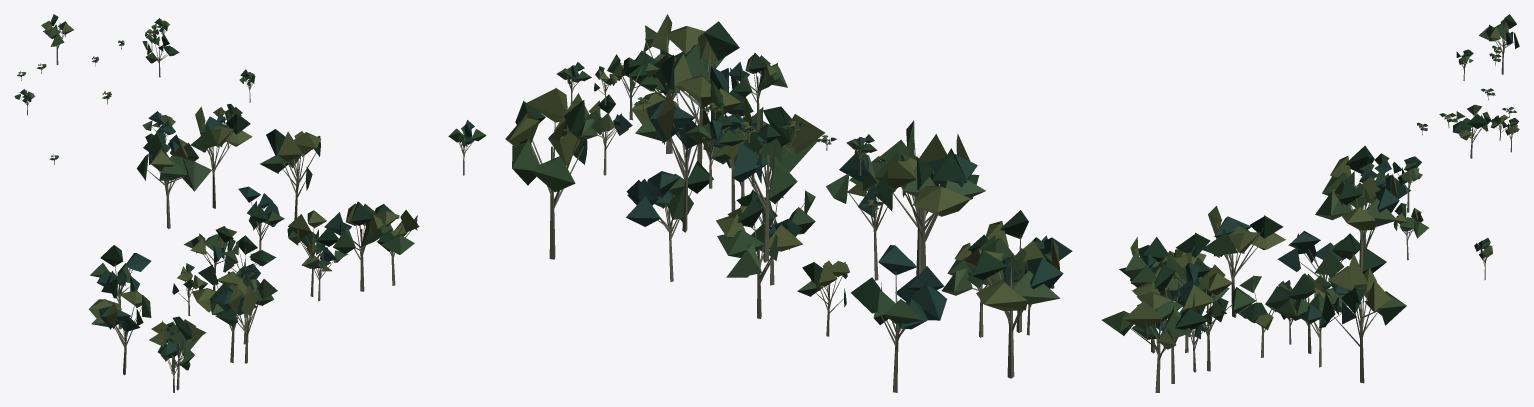
File: forest_18_23.dae
3 views of the same model, side by side, from view 1: azimuth 30°, elevation 25°; view 2: azimuth 150°, elevation 25°; view 3: azimuth 270°, elevation 25° (orthographic). The views are drawn at different scales.
Parts seen in each view (by area): view 1: Node; view 2: Node; view 3: Node.
Boxes of the visible parts, x1,y1,x2,y2 form: Node: (14, 14, 419, 392); Node: (448, 14, 1072, 392); Node: (1101, 14, 1519, 392).
Size of the model in its own units: 11.25 by 11.33 by 9.82.
